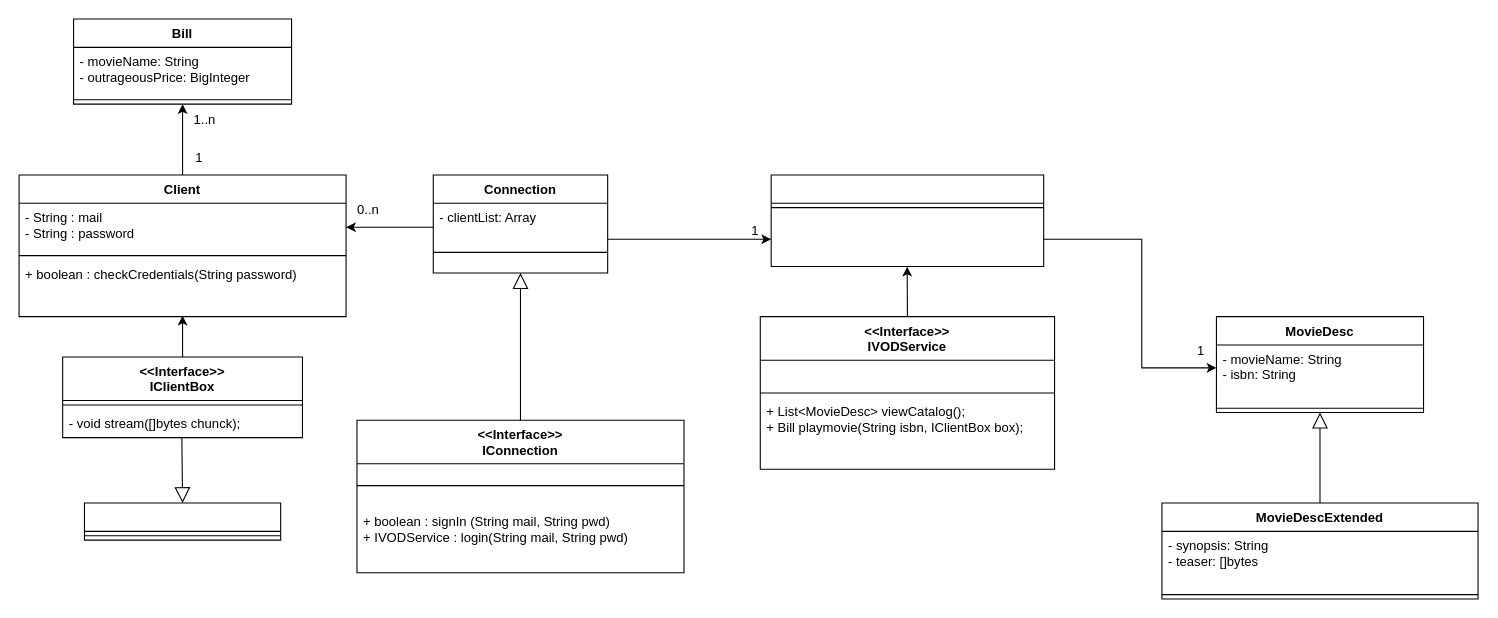
The diagram is 1498 pixels wide and 618 high, and some of its shapes have lost their labels. Here are the shapes that lost their labels. From the top down, the centre of each, then its label:
pixel 907 220: VODService
pixel 182 521: ClientBox
